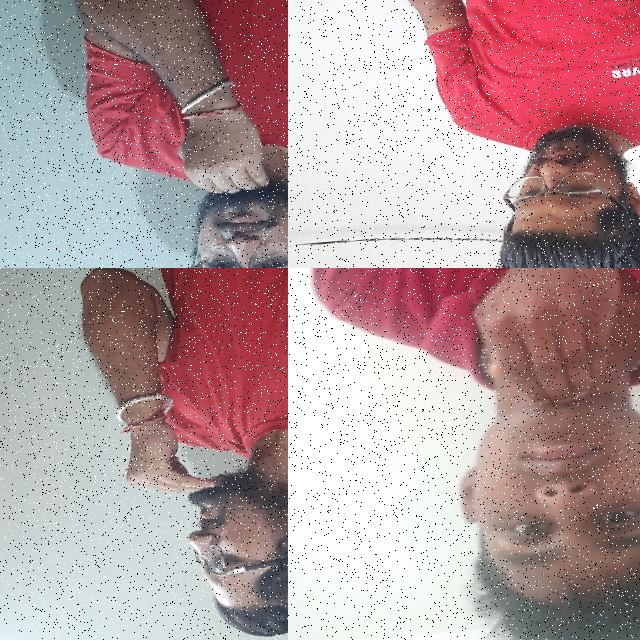Chin Flick: (416, 268, 640, 640), (113, 399, 288, 640), (165, 86, 288, 268)
